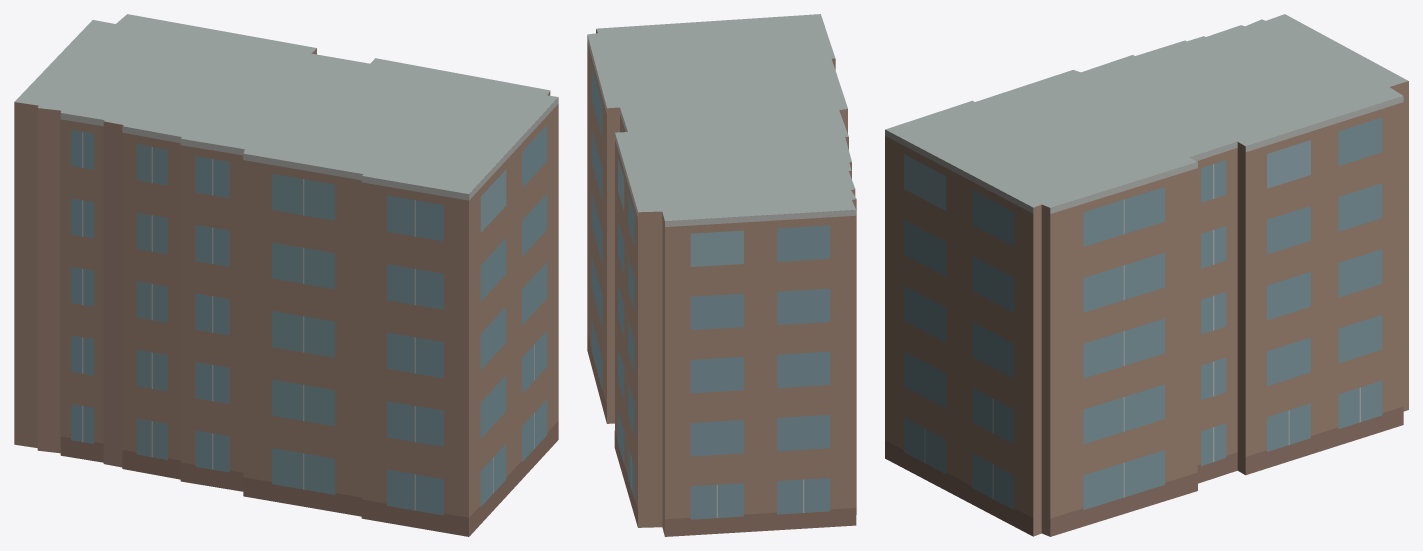
File: survey-upis-32929264.glb
The picture shows the model from 3 angles, left to right: view 1: azimuth 30°, elevation 25°; view 2: azimuth 150°, elevation 25°; view 3: azimuth 270°, elevation 25°; orthographic projection. The views are drawn at different scales.
Visible parts, largest first — view 1: survey-upis-32929264.tmp; view 2: survey-upis-32929264.tmp; view 3: survey-upis-32929264.tmp.
Part boxes in pixels (x1,y1,x2,y2): survey-upis-32929264.tmp: (14,14,558,536); survey-upis-32929264.tmp: (587,14,856,536); survey-upis-32929264.tmp: (885,14,1408,536).
Size of the model in its own units: 16.44 by 13 by 18.76.
